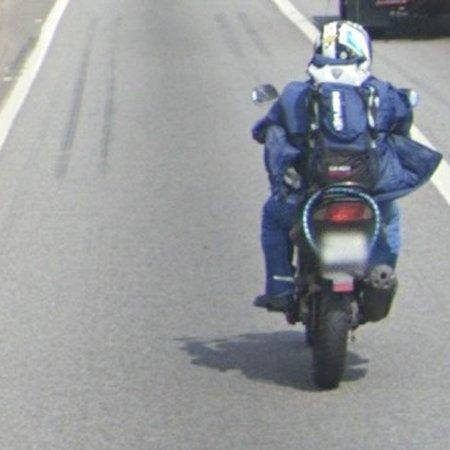motorcycles: (287, 186, 399, 390)
